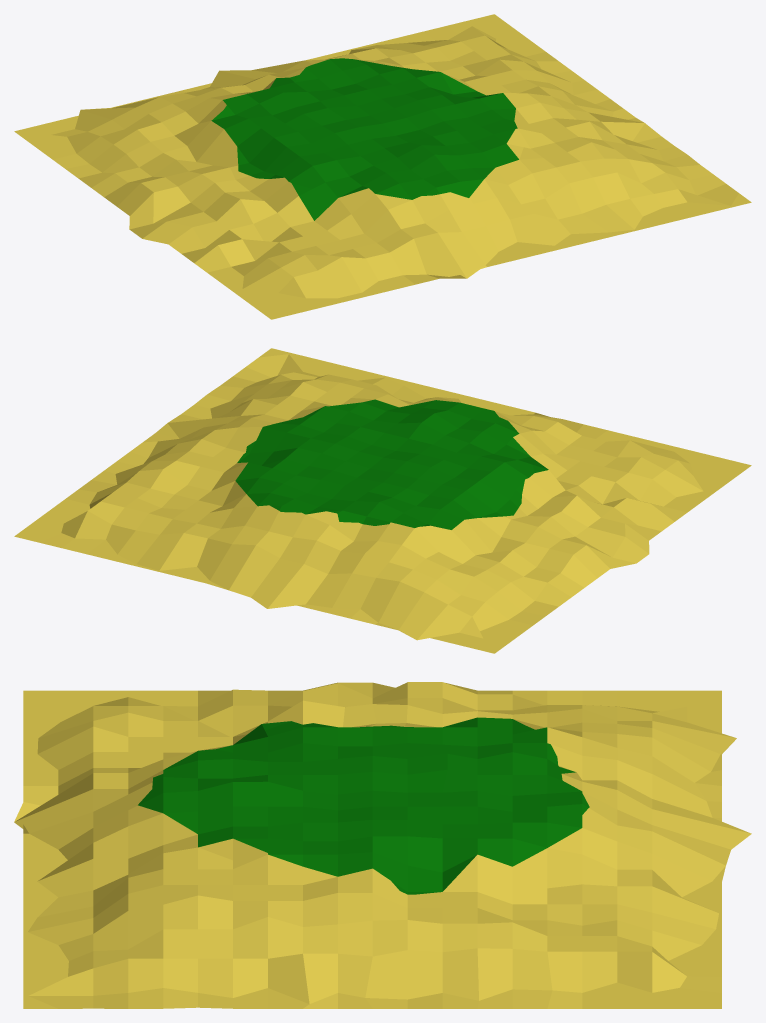
File: island base.fbx
3 renders of one model, top to bottom at view 1: azimuth 30°, elevation 25°; view 2: azimuth 150°, elevation 25°; view 3: azimuth 270°, elevation 25°, orthographic. The views are drawn at different scales.
Parts seen in each view (by area): view 1: Plane025; view 2: Plane025; view 3: Plane025.
Boxes of the visible parts, <box> form: Plane025: <box>14,14,751,319</box>; Plane025: <box>14,348,751,653</box>; Plane025: <box>14,682,751,1008</box>.
Bounding box in the file's own units: 938 × 100 × 895.
